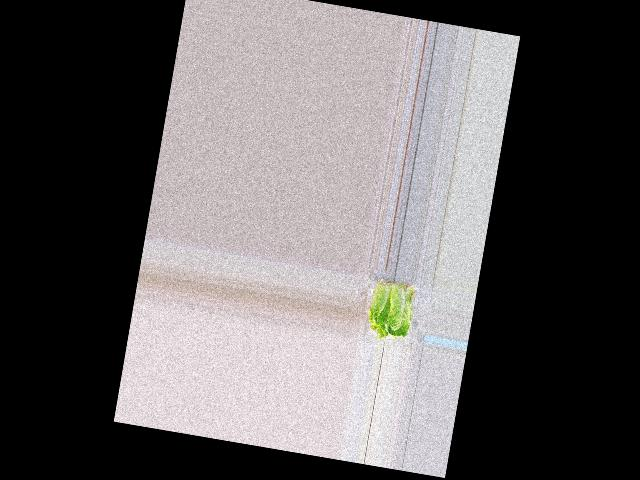lettuce: (364, 280, 416, 343)
